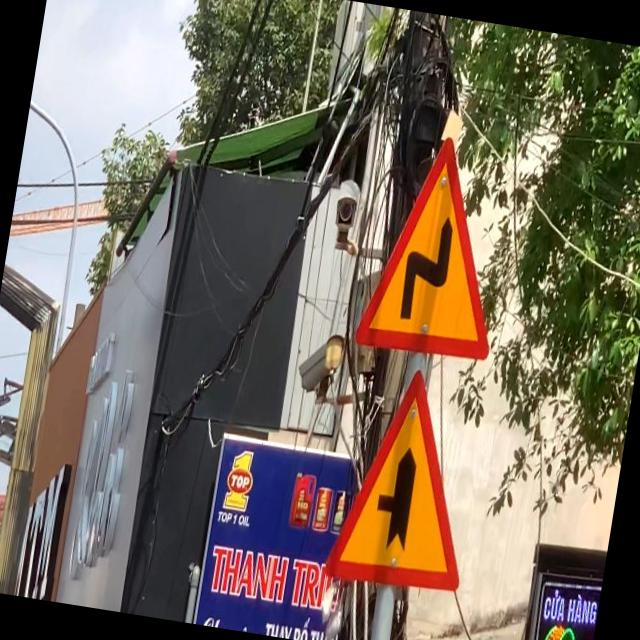W-202b: (351, 126, 521, 367)
W-207c: (326, 360, 492, 594)
